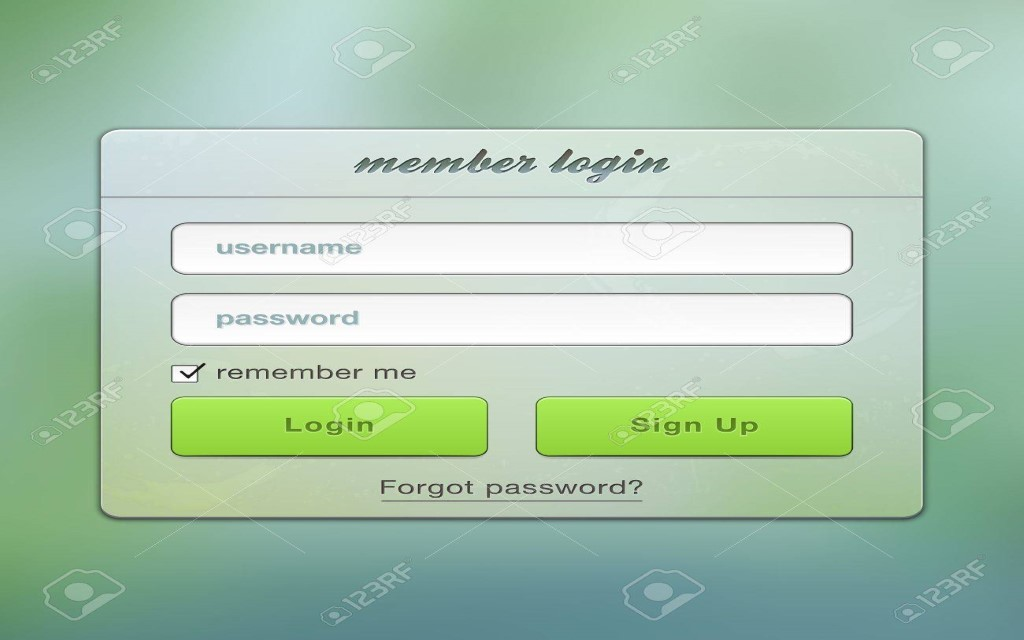button: (171, 396, 489, 458), (535, 396, 853, 458)
button_login: (172, 398, 488, 458)
label_Username: (212, 236, 370, 260)
label_password: (213, 306, 366, 329)
textbox: (172, 223, 852, 276), (171, 294, 852, 346)
textbox_Password: (171, 292, 853, 346)
textbox_username: (172, 222, 853, 277)
